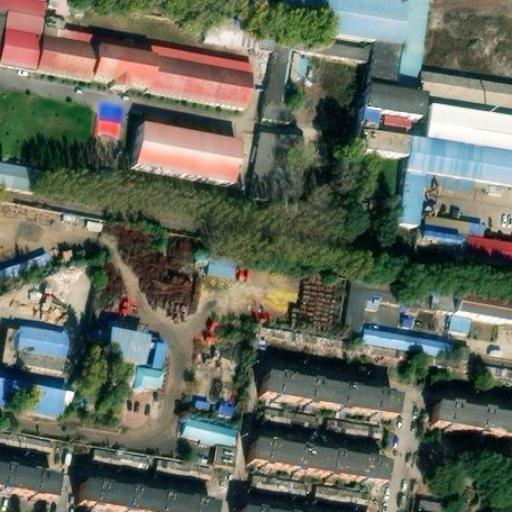building: (34, 29, 251, 110), (261, 385, 397, 433), (133, 134, 240, 193), (274, 0, 404, 46), (249, 453, 384, 497), (402, 145, 512, 195), (355, 96, 426, 163), (422, 110, 512, 160), (99, 336, 163, 397), (0, 370, 76, 416), (264, 36, 305, 120), (359, 329, 453, 364), (430, 415, 512, 454), (418, 78, 512, 111), (452, 319, 512, 358), (83, 495, 208, 512), (250, 136, 280, 201), (399, 280, 457, 313), (0, 246, 56, 280), (420, 213, 481, 239), (458, 237, 512, 266), (93, 442, 153, 466), (337, 281, 363, 336), (182, 418, 232, 446), (91, 97, 126, 133), (0, 158, 39, 190), (395, 178, 419, 228), (417, 229, 462, 253), (243, 498, 311, 511), (206, 256, 235, 282), (217, 396, 239, 417), (418, 497, 447, 512)
